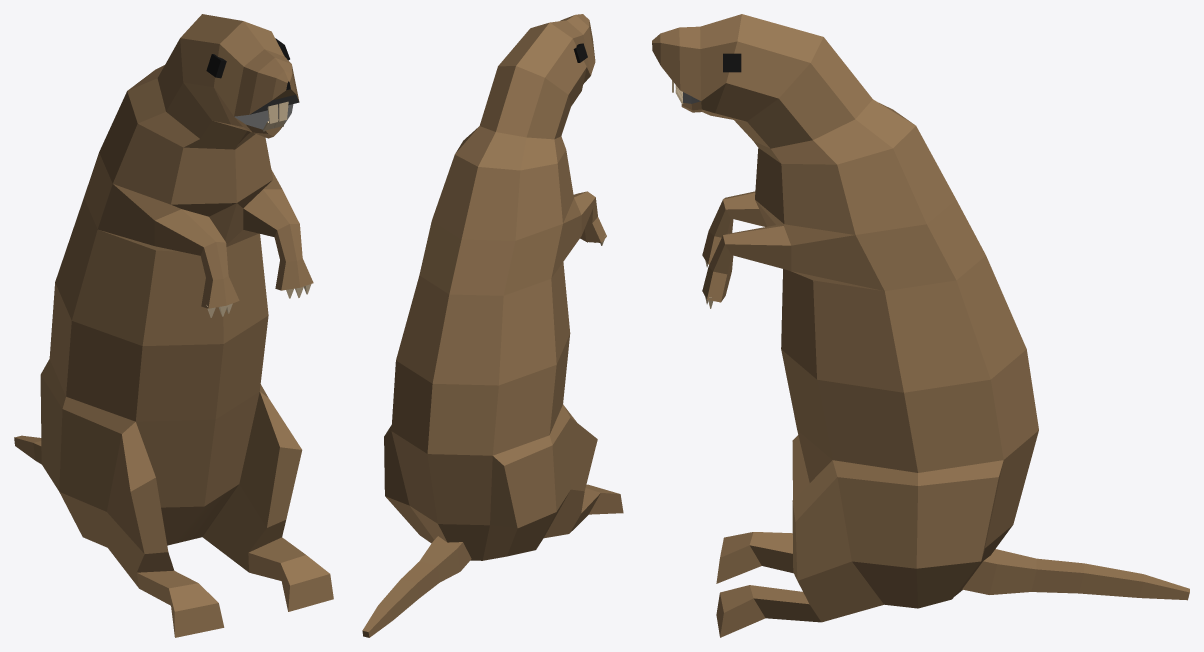
Rendered from prairiedog.glb.
3 views of the same model, side by side, from view 1: azimuth 30°, elevation 25°; view 2: azimuth 150°, elevation 25°; view 3: azimuth 270°, elevation 25° (orthographic). The views are drawn at different scales.
Visible parts, largest first — view 1: Geo_Gopher; view 2: Geo_Gopher; view 3: Geo_Gopher.
Part boxes in pixels (left/top/right/bottom): Geo_Gopher: left=14, top=14, right=333, bottom=637; Geo_Gopher: left=362, top=14, right=623, bottom=637; Geo_Gopher: left=652, top=14, right=1189, bottom=637.
Size of the model in its own units: 23.04 by 67.52 by 56.13.
